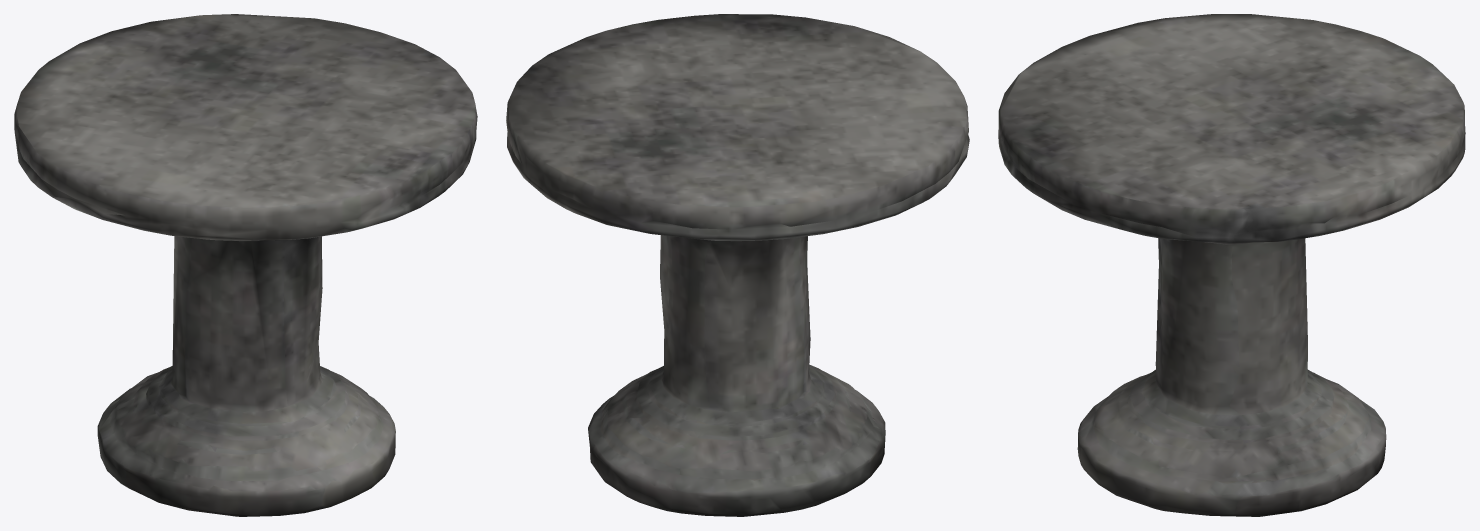
Rendered from old-granite-table-v001.glb.
3 renders of one model, left to right at view 1: azimuth 30°, elevation 25°; view 2: azimuth 150°, elevation 25°; view 3: azimuth 270°, elevation 25°, orthographic.
Parts seen in each view (by area): view 1: old-granite-table; view 2: old-granite-table; view 3: old-granite-table.
Part boxes in pixels (x1=…): old-granite-table: x1=14, y1=14, x2=477, y2=516; old-granite-table: x1=506, y1=14, x2=969, y2=516; old-granite-table: x1=998, y1=14, x2=1465, y2=516.
Bounding box in the file's own units: 0.86 × 0.7083 × 0.8593.
Materials: 1 (1 with a texture image).
